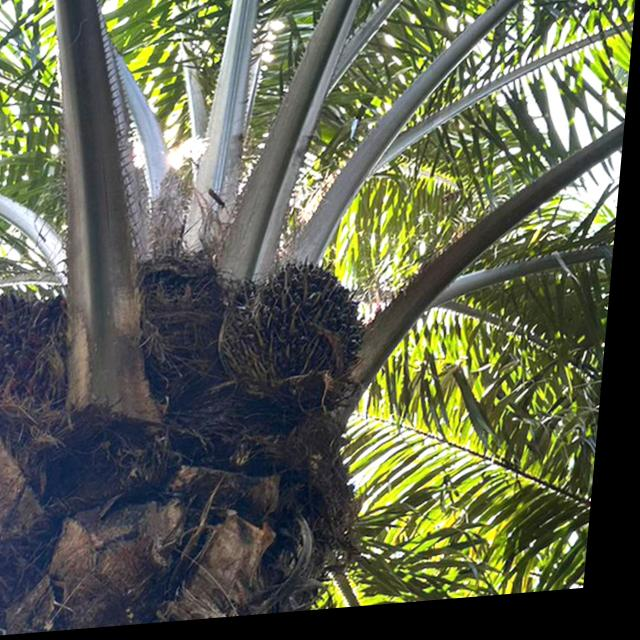unripe: (219, 252, 381, 438)
